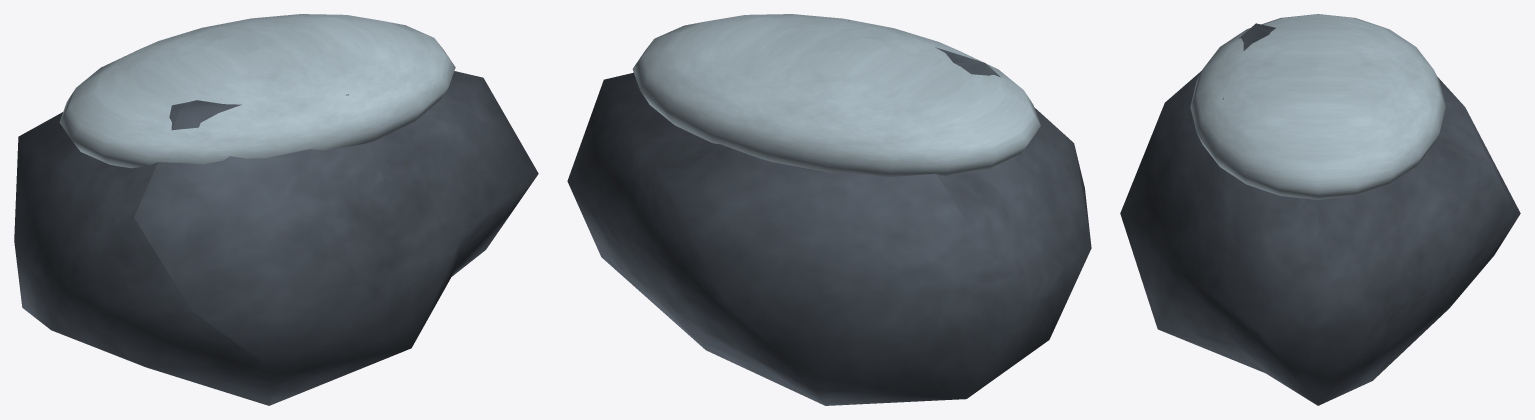
The model's file is prop_snowrock_2.glb.
3 views of the same model, side by side, from view 1: azimuth 30°, elevation 25°; view 2: azimuth 150°, elevation 25°; view 3: azimuth 270°, elevation 25° (orthographic). The views are drawn at different scales.
Parts seen in each view (by area): view 1: Weathered_granite, Soft_windblown_snow; view 2: Weathered_granite, Soft_windblown_snow; view 3: Weathered_granite, Soft_windblown_snow.
Boxes of the visible parts, x1=… form: Weathered_granite: x1=14, y1=71, x2=538, y2=405; Soft_windblown_snow: x1=59, y1=14, x2=455, y2=168; Weathered_granite: x1=567, y1=20, x2=1091, y2=405; Soft_windblown_snow: x1=632, y1=14, x2=1040, y2=177; Weathered_granite: x1=1120, y1=23, x2=1520, y2=405; Soft_windblown_snow: x1=1190, y1=14, x2=1445, y2=199.
Bounding box in the file's own units: 1.37 × 0.9148 × 1.1.
2 materials, 2 textured.
